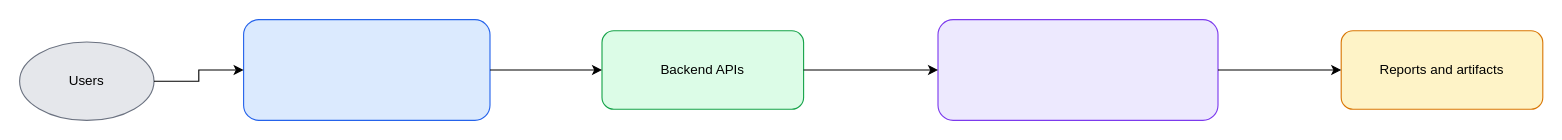
The diagram is 1562 pixels wide and 140 high, and some of its shapes have lost their labels. The centre of each missing label's shape, as x and y in pixels:
"Cloudflare Pages product frontends" goes at (x=366, y=69).
"Shared backend schemas | analytics | model router" goes at (x=1077, y=69).
